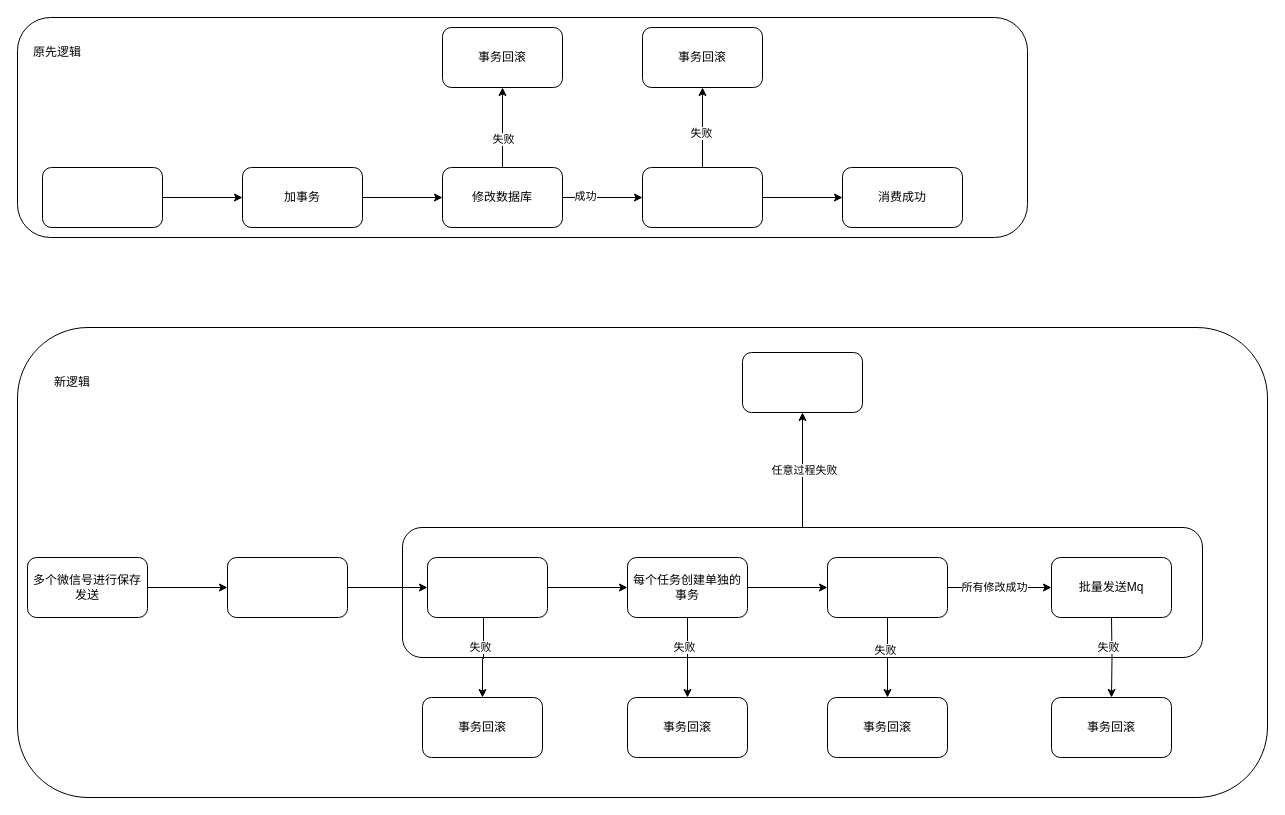
This 1285x815 diagram has some shape labels left out. The centre of each missing label's shape, as x and y in pixels:
"任务按照微信号划分为多个但微信号的任务" goes at (x=487, y=587).
"加总体事务" goes at (x=287, y=587).
"单个微信号进行保存发送" goes at (x=102, y=197).
"单独修改数据库" goes at (x=887, y=587).
"发送Mq消息" goes at (x=702, y=197).
"总体事务回滚" goes at (x=802, y=382).
